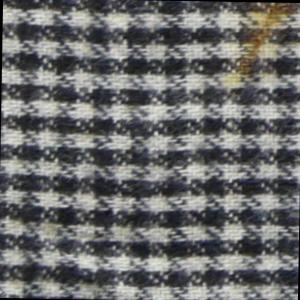Oil Stain: (218, 2, 300, 90)
